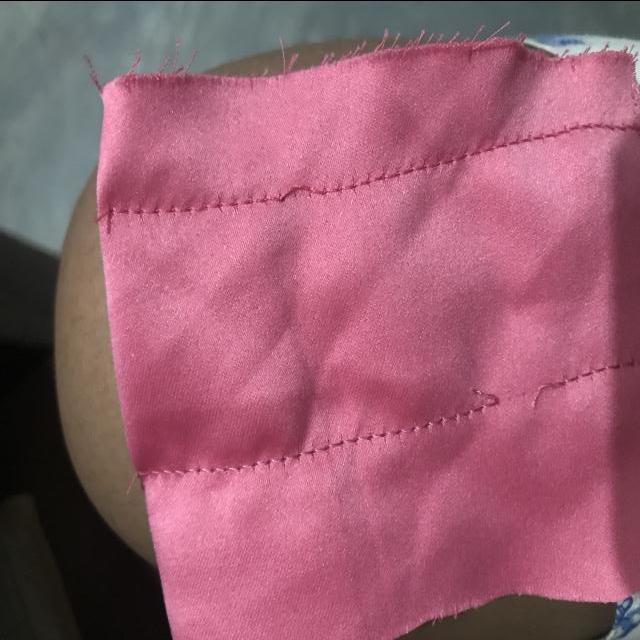Broken: (468, 368, 565, 440)
Skip: (258, 172, 340, 210)
